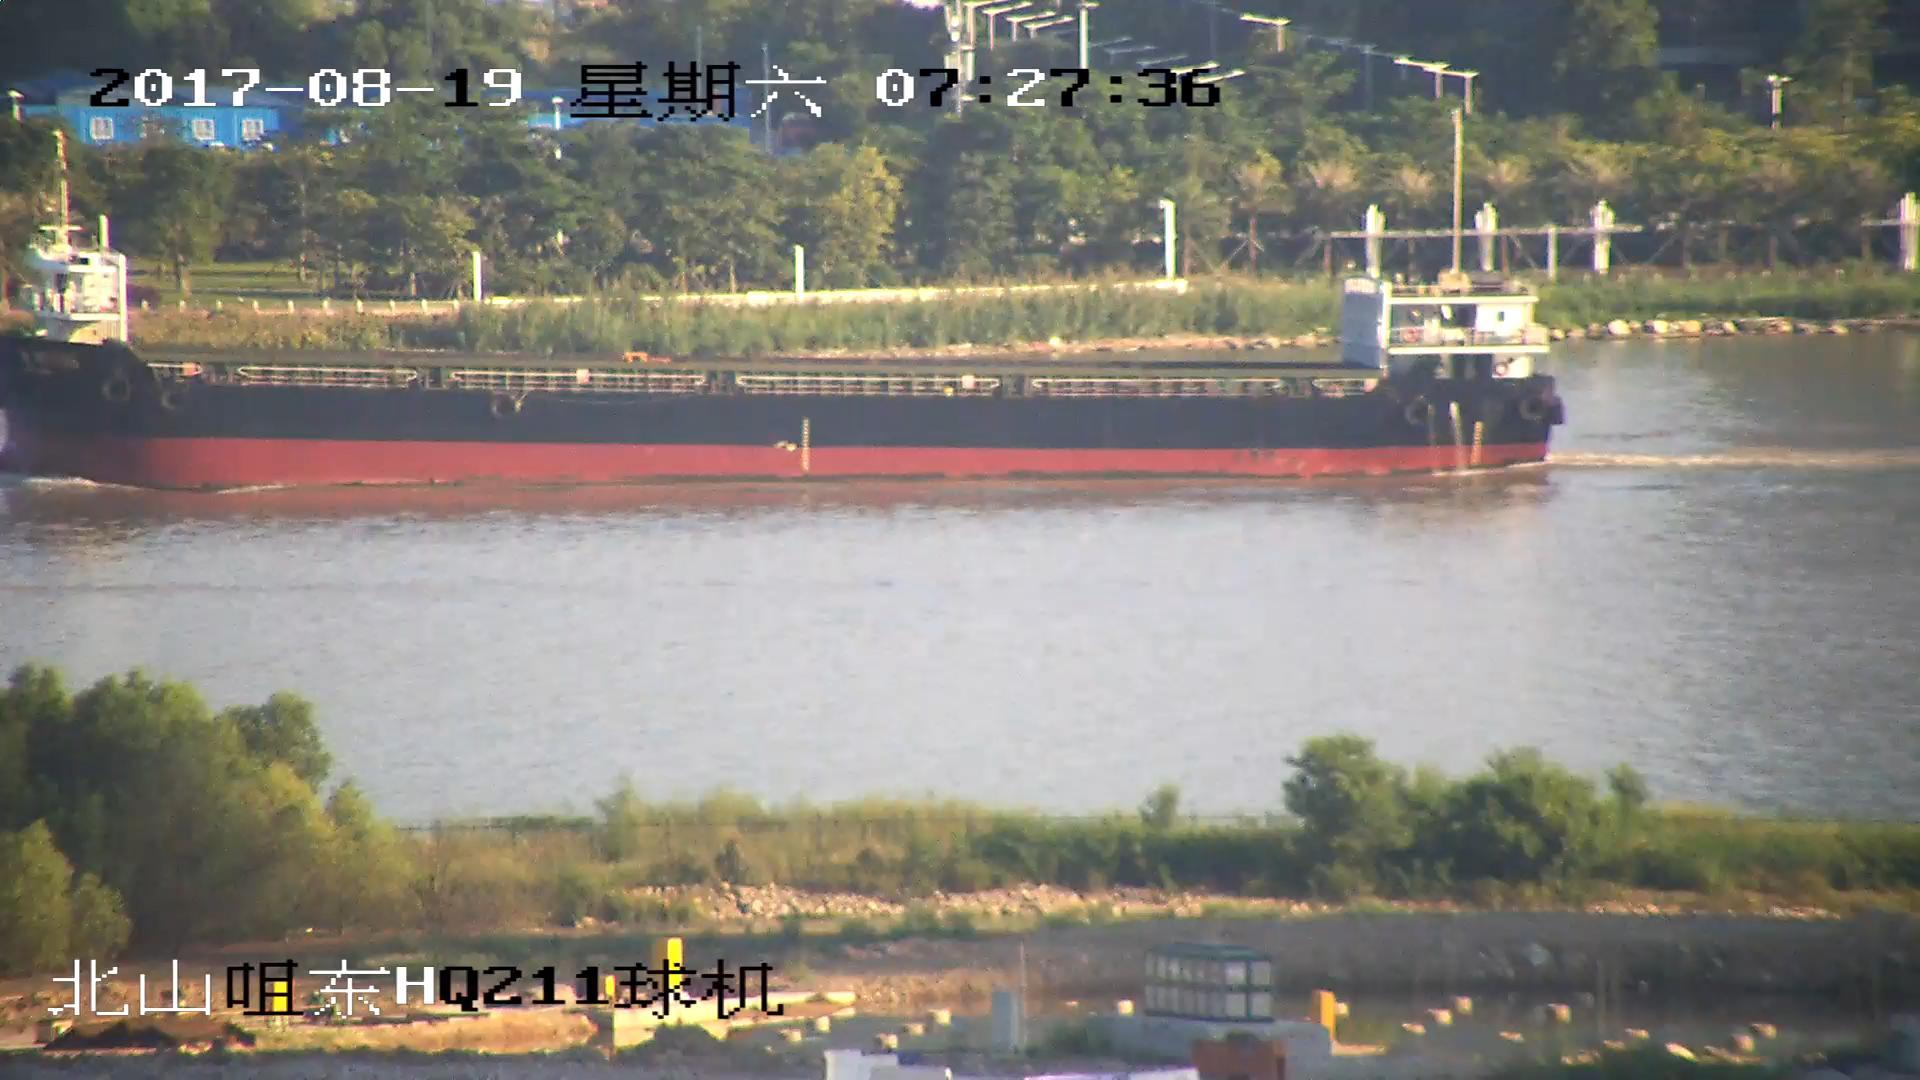Ship: (3, 211, 1571, 487)
